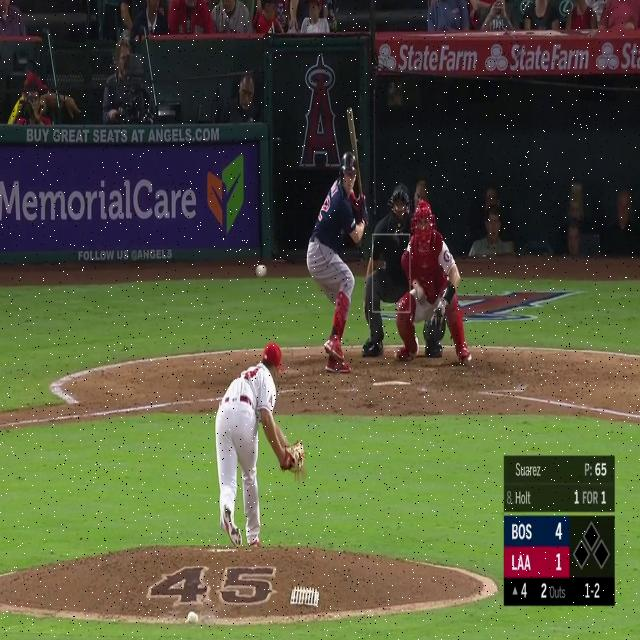baseball: (256, 265, 266, 277)
